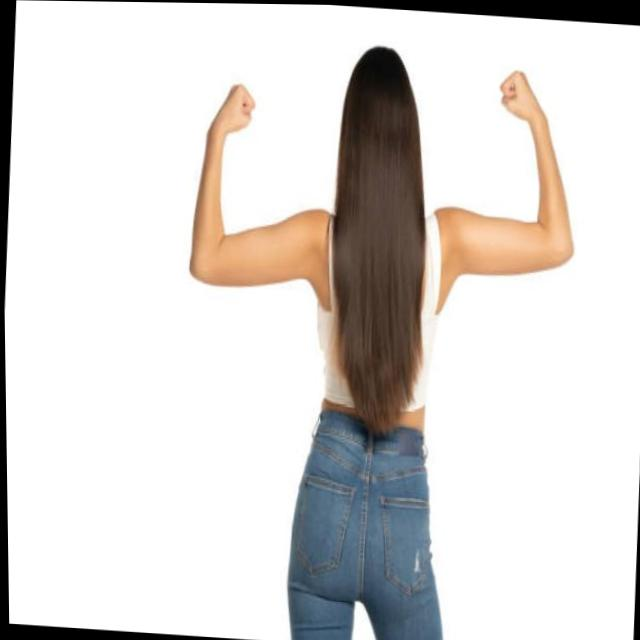no helmet: (328, 39, 437, 231)
